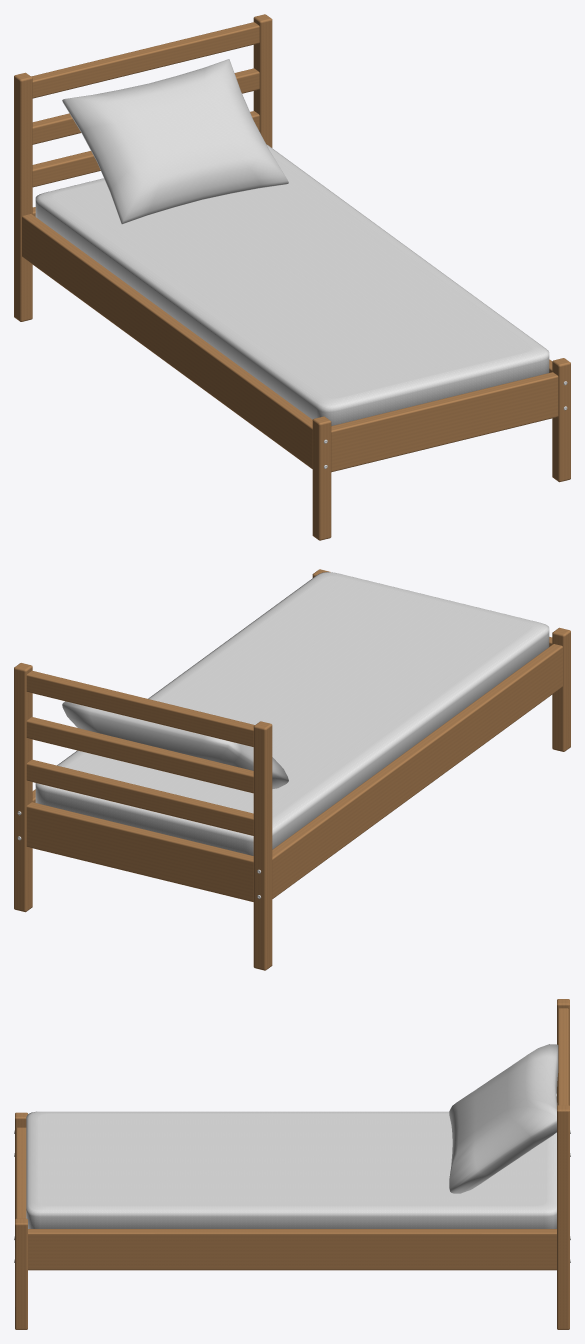
File: Bed.obj
3 views of the same model, one above another, from view 1: azimuth 30°, elevation 25°; view 2: azimuth 150°, elevation 25°; view 3: azimuth 270°, elevation 25° (orthographic). The views are drawn at different scales.
Visible parts, largest first — view 1: Bed_Mattress, Bed_Frame, Bed_Pillow; view 2: Bed_Mattress, Bed_Frame, Bed_Pillow; view 3: Bed_Mattress, Bed_Frame, Bed_Pillow.
Part boxes in pixels (left/top/right/bottom): Bed_Mattress: left=35, top=144, right=549, bottom=425; Bed_Frame: left=14, top=14, right=570, bottom=540; Bed_Pillow: left=62, top=59, right=288, bottom=224; Bed_Mattress: left=35, top=572, right=549, bottom=855; Bed_Frame: left=14, top=569, right=570, bottom=970; Bed_Pillow: left=62, top=701, right=288, bottom=788; Bed_Mattress: left=26, top=1111, right=556, bottom=1228; Bed_Frame: left=14, top=999, right=570, bottom=1329; Bed_Pillow: left=449, top=1044, right=558, bottom=1193.
Size of the model in its own units: 1 by 0.9185 by 2.11.
Materials: 3 (3 with a texture image).
